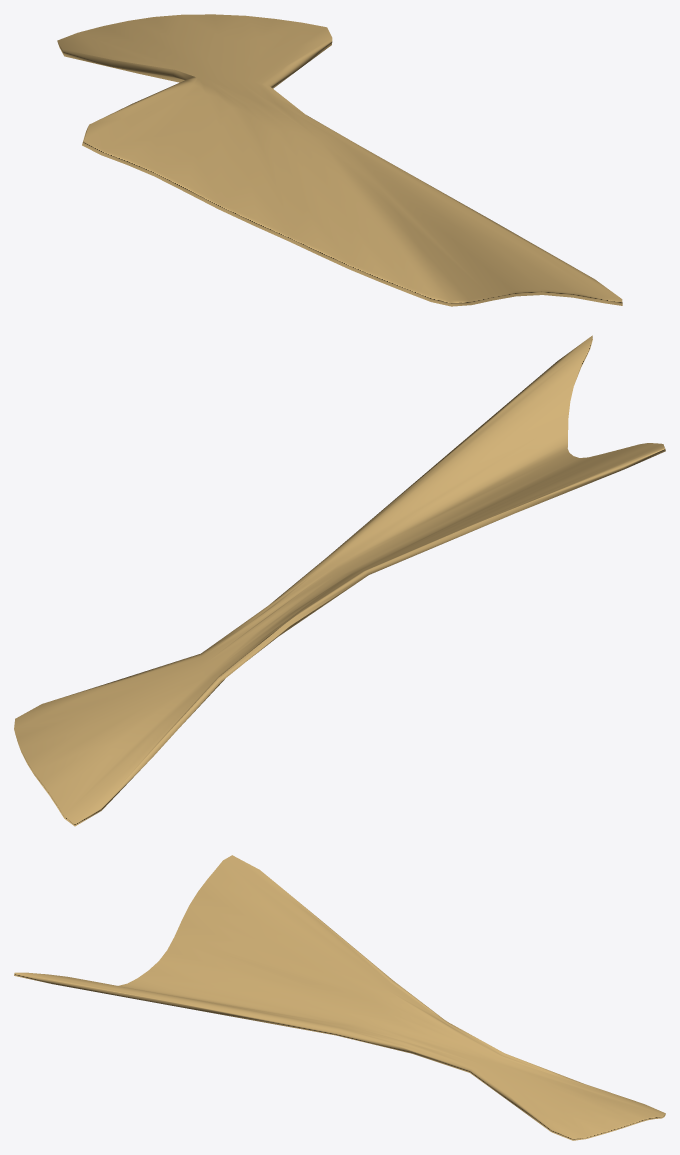
The picture shows the model from 3 angles, top to bottom: view 1: azimuth 30°, elevation 25°; view 2: azimuth 150°, elevation 25°; view 3: azimuth 270°, elevation 25°; orthographic projection. The views are drawn at different scales.
Parts seen in each view (by area): view 1: 左侧骶结节韧带; view 2: 左侧骶结节韧带; view 3: 左侧骶结节韧带.
Boxes of the visible parts, x1=… form: 左侧骶结节韧带: x1=57, y1=14, x2=622, y2=306; 左侧骶结节韧带: x1=14, y1=335, x2=665, y2=826; 左侧骶结节韧带: x1=14, y1=855, x2=665, y2=1140.
Size of the model in its own units: 0.0684 by 0.0362 by 0.1317.
